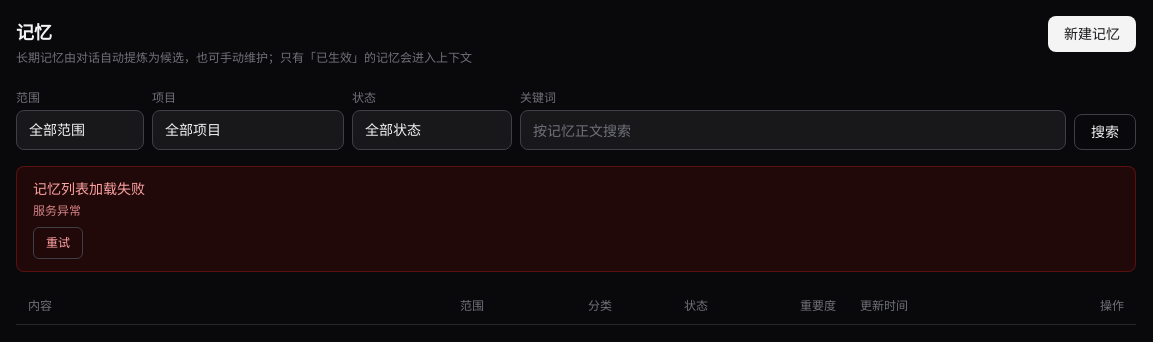
Test: 记忆页：列表 / 过滤 / 空态 / 错误 › 错误态：展示错误与重试，重试后渲染列表
Check: the text "记忆列表加载失败" is shown, box x1=33 y1=179 x2=145 y2=198
Check: the text "服务异常" is shown, box x1=33 y1=202 x2=81 y2=219
Click the button "重试": click(58, 243) x1=33 y1=227 x2=83 y2=259
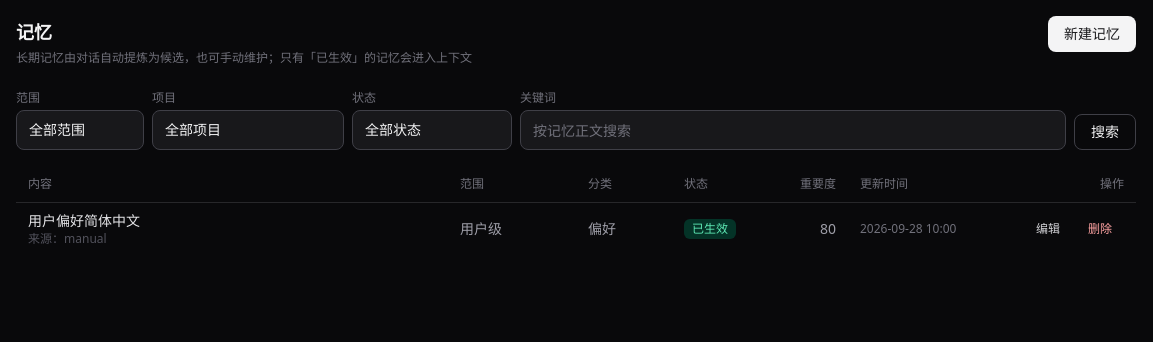
Check: the text "用户偏好简体中文" is shown, box x1=28 y1=210 x2=140 y2=230
